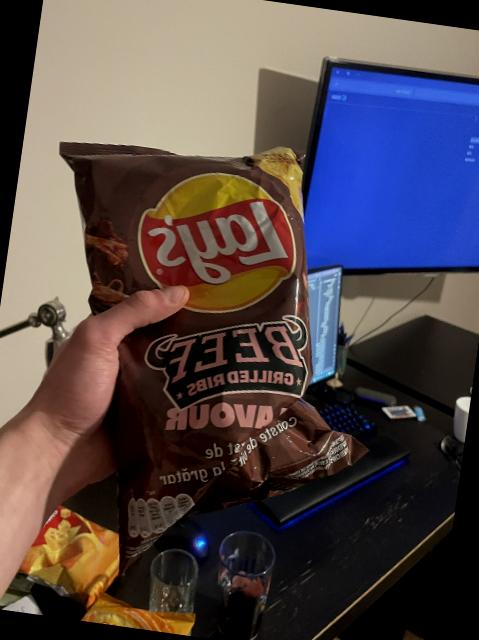Lays Beef Grilled Ribs 125g: (3, 116, 402, 604)
